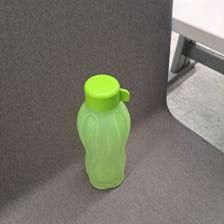bottle: (75, 72, 132, 191)
